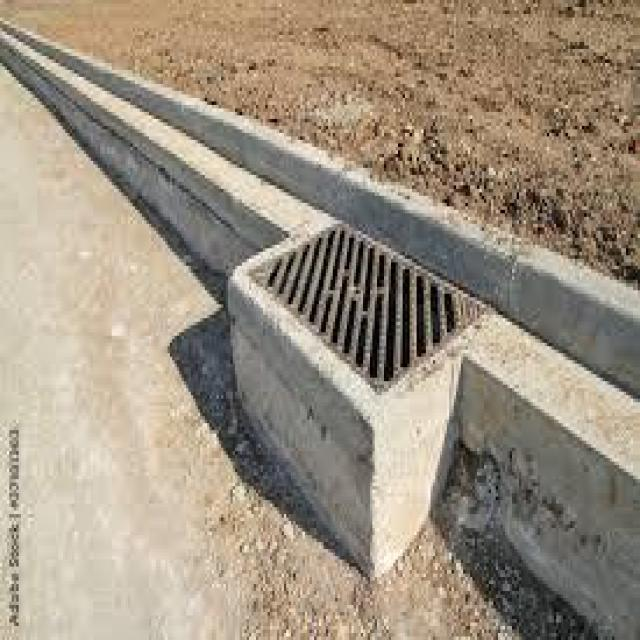curb: (11, 41, 312, 267), (461, 318, 640, 630)
